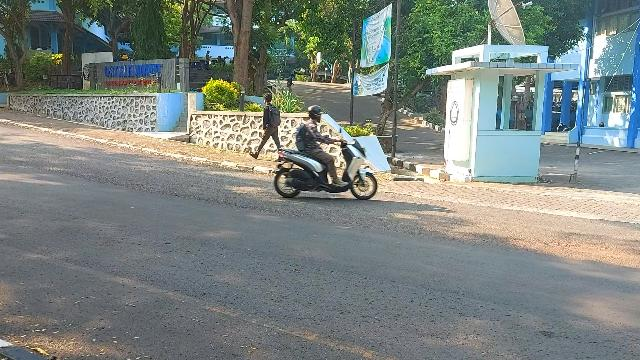helm: (309, 107, 324, 124)
motor: (272, 130, 378, 201)
